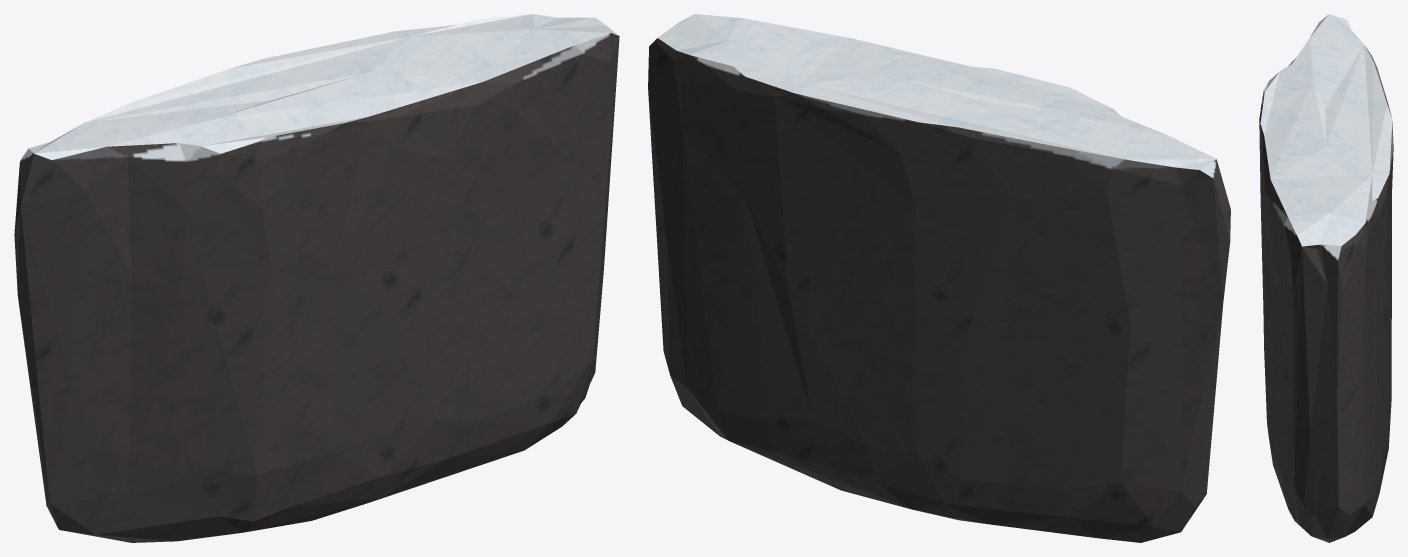
Rendered from pass_wall_a.gltf.
3 views of the same model, side by side, from view 1: azimuth 30°, elevation 25°; view 2: azimuth 150°, elevation 25°; view 3: azimuth 270°, elevation 25° (orthographic). The views are drawn at different scales.
Parts seen in each view (by area): view 1: pass_wall_a; view 2: pass_wall_a; view 3: pass_wall_a.
Boxes of the visible parts, box(x1,y1,x2,y2) form: pass_wall_a: box(14, 14, 619, 542); pass_wall_a: box(648, 14, 1230, 542); pass_wall_a: box(1259, 14, 1393, 542).
Size of the model in its own units: 10.7 by 7.21 by 2.57.
1 material, 1 textured.
